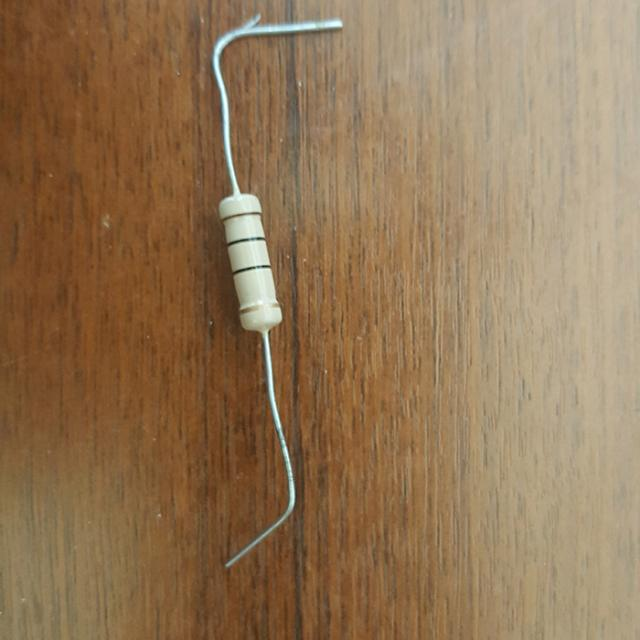black: (231, 263, 269, 273), (228, 236, 264, 245)
brown: (222, 210, 261, 219)
gold: (240, 302, 277, 312)
resistor: (204, 178, 303, 350)
